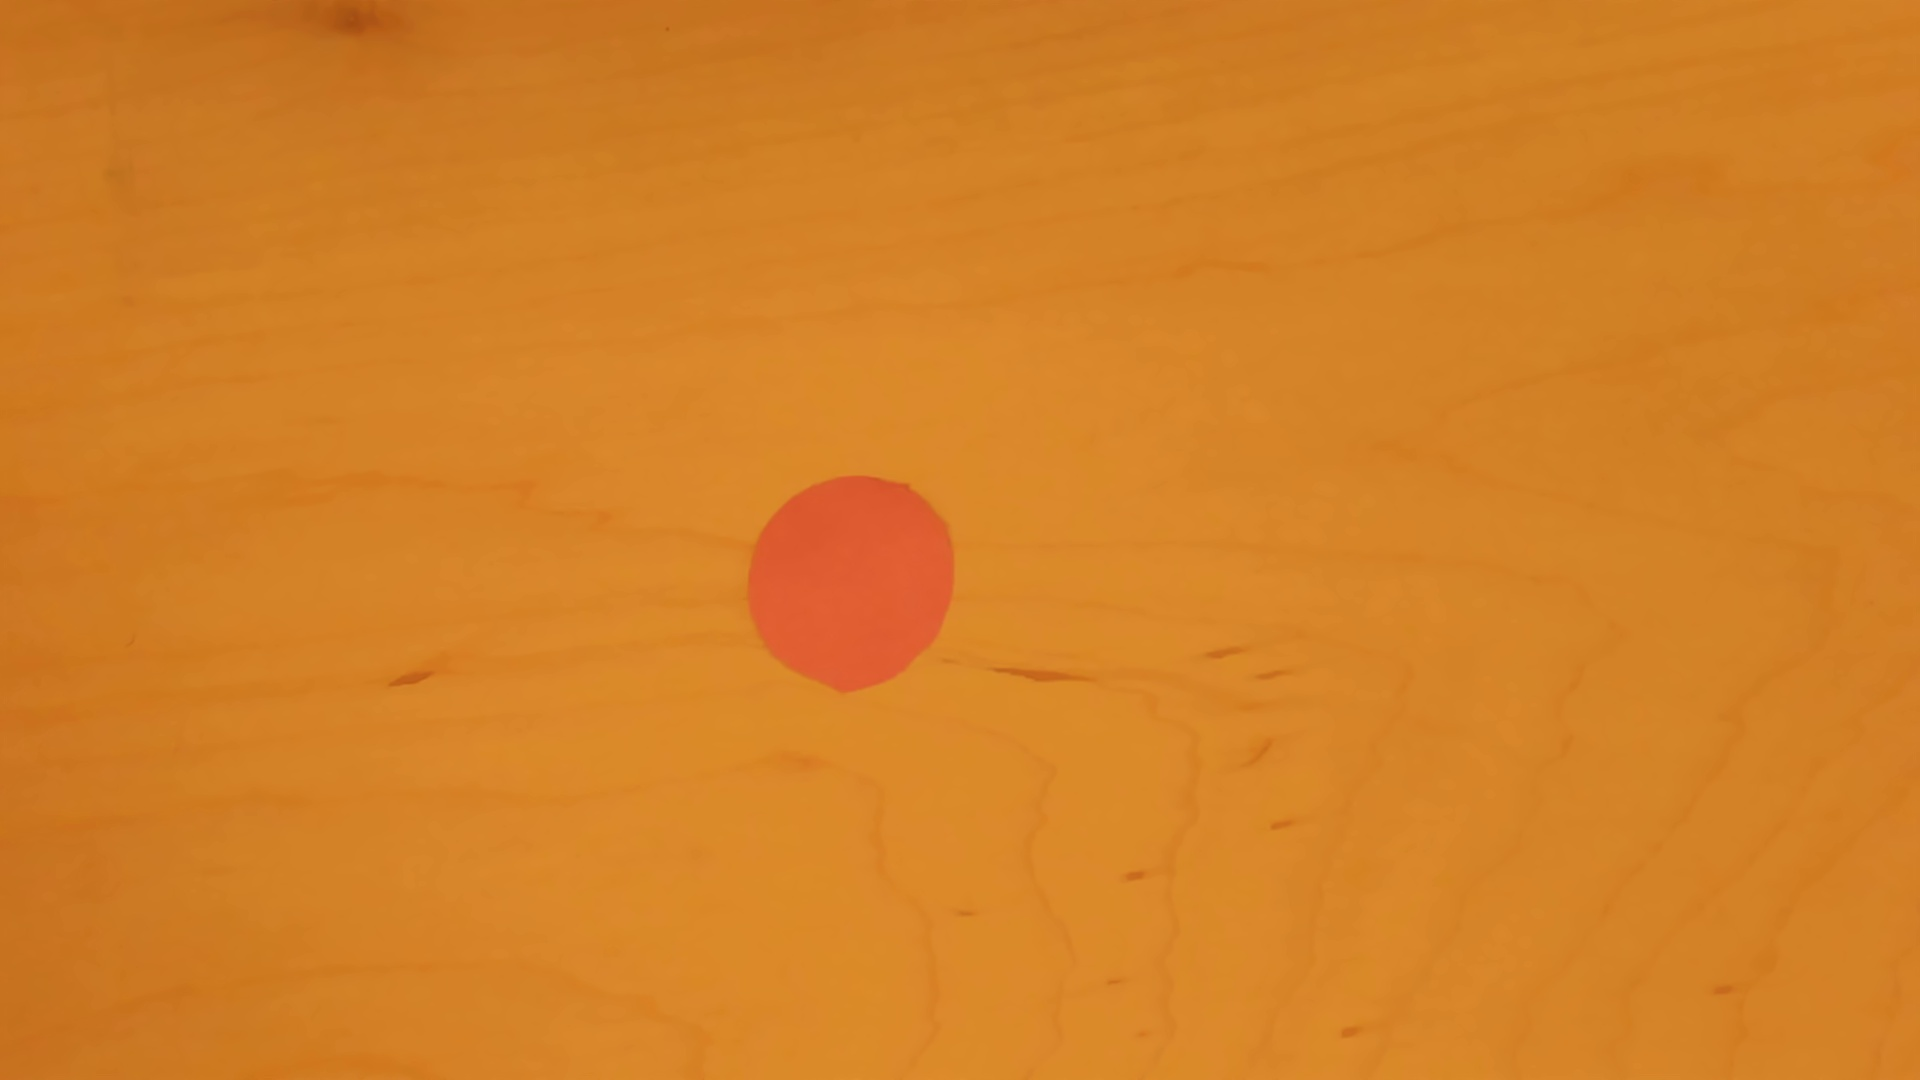PC: (745, 476, 959, 699)
